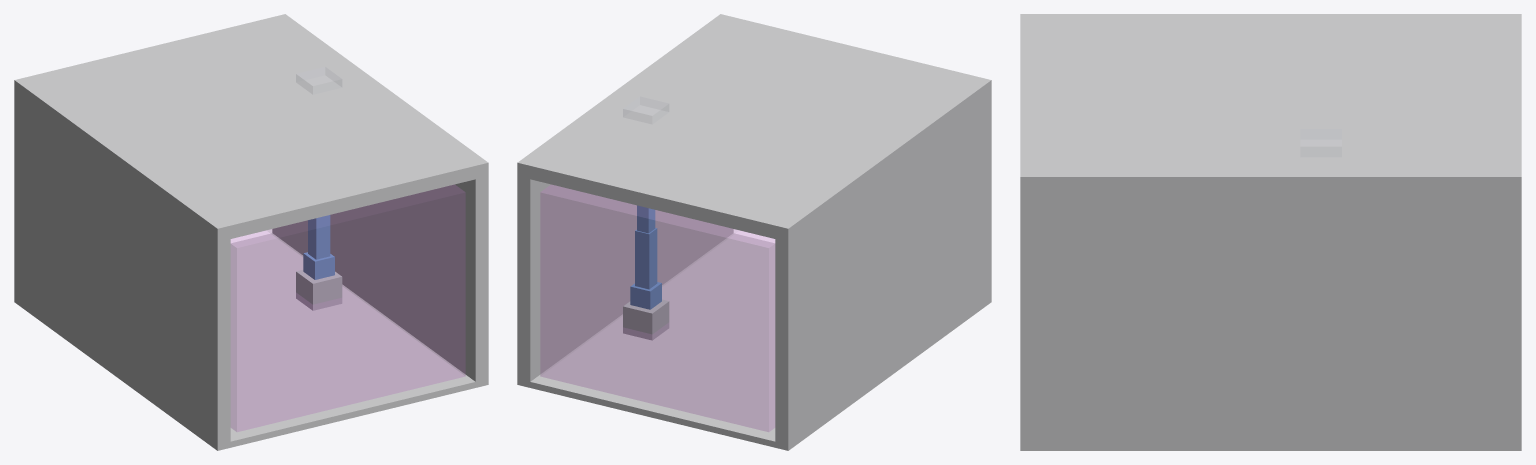
Rendered from SprayBooth.glb.
3 renders of one model, left to right at view 1: azimuth 30°, elevation 25°; view 2: azimuth 150°, elevation 25°; view 3: azimuth 270°, elevation 25°, orthographic. The views are drawn at different scales.
Parts seen in each view (by area): view 1: Shell-Roof, ProcessZone, Shell-Left, Shell-Floor, Shell-Right, Robot-Base, A2-Link, Spray-Fan, A1-Link; view 2: Shell-Roof, ProcessZone, Shell-Left, Shell-Floor, Shell-Right, Robot-Base, A2-Link, Spray-Fan, A1-Link, A3-Link; view 3: Shell-Right, Shell-Roof, Spray-Fan.
Boxes of the visible parts, bbox=[...] form: Shell-Roof: bbox=[14, 14, 488, 242]; ProcessZone: bbox=[231, 184, 465, 431]; Shell-Left: bbox=[14, 94, 230, 450]; Shell-Floor: bbox=[224, 233, 481, 448]; Shell-Right: bbox=[272, 176, 488, 386]; Robot-Base: bbox=[296, 270, 342, 310]; A2-Link: bbox=[308, 215, 330, 259]; Spray-Fan: bbox=[296, 67, 341, 93]; A1-Link: bbox=[303, 252, 334, 279]; Shell-Roof: bbox=[517, 14, 991, 242]; ProcessZone: bbox=[540, 184, 774, 431]; Shell-Left: bbox=[775, 94, 991, 450]; Shell-Floor: bbox=[524, 233, 781, 448]; Shell-Right: bbox=[517, 176, 733, 387]; Robot-Base: bbox=[623, 299, 669, 340]; A2-Link: bbox=[635, 228, 657, 289]; Spray-Fan: bbox=[623, 97, 668, 123]; A1-Link: bbox=[630, 282, 661, 309]; A3-Link: bbox=[637, 205, 655, 233]; Shell-Right: bbox=[1020, 193, 1521, 450]; Shell-Roof: bbox=[1020, 14, 1521, 193]; Spray-Fan: bbox=[1300, 129, 1341, 156].
Size of the model in its own units: 4.62 by 3.76 by 6.
